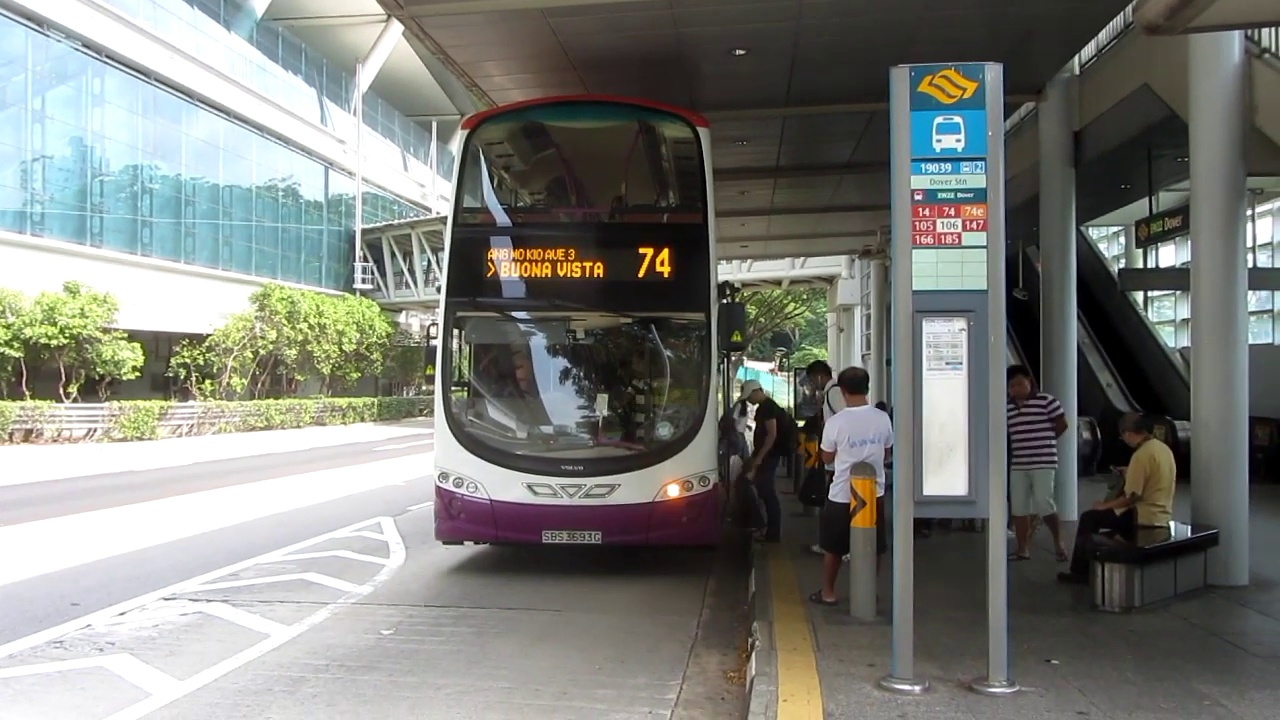bus panel: (480, 244, 678, 284)
